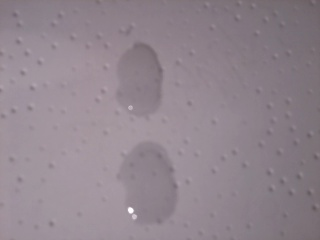Water_detected: (124, 154, 174, 217), (119, 44, 163, 103)
